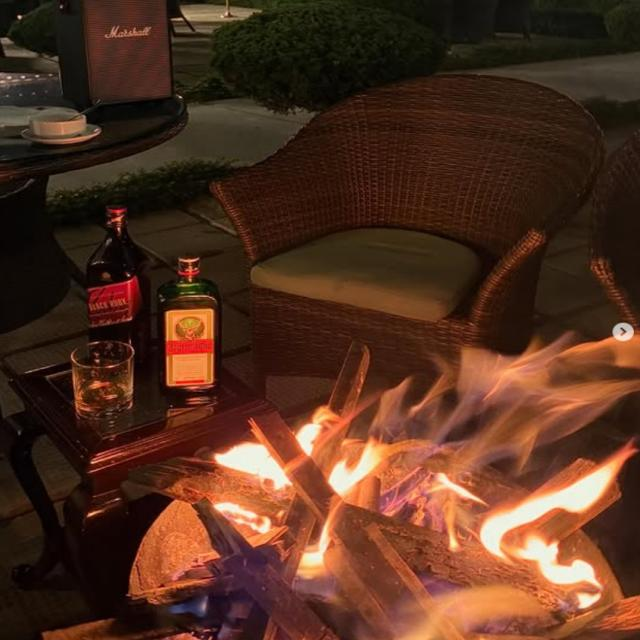fire: (480, 438, 640, 607), (328, 437, 419, 500), (214, 441, 293, 491), (296, 501, 346, 580), (296, 405, 340, 457), (214, 502, 271, 533), (424, 471, 478, 502)
